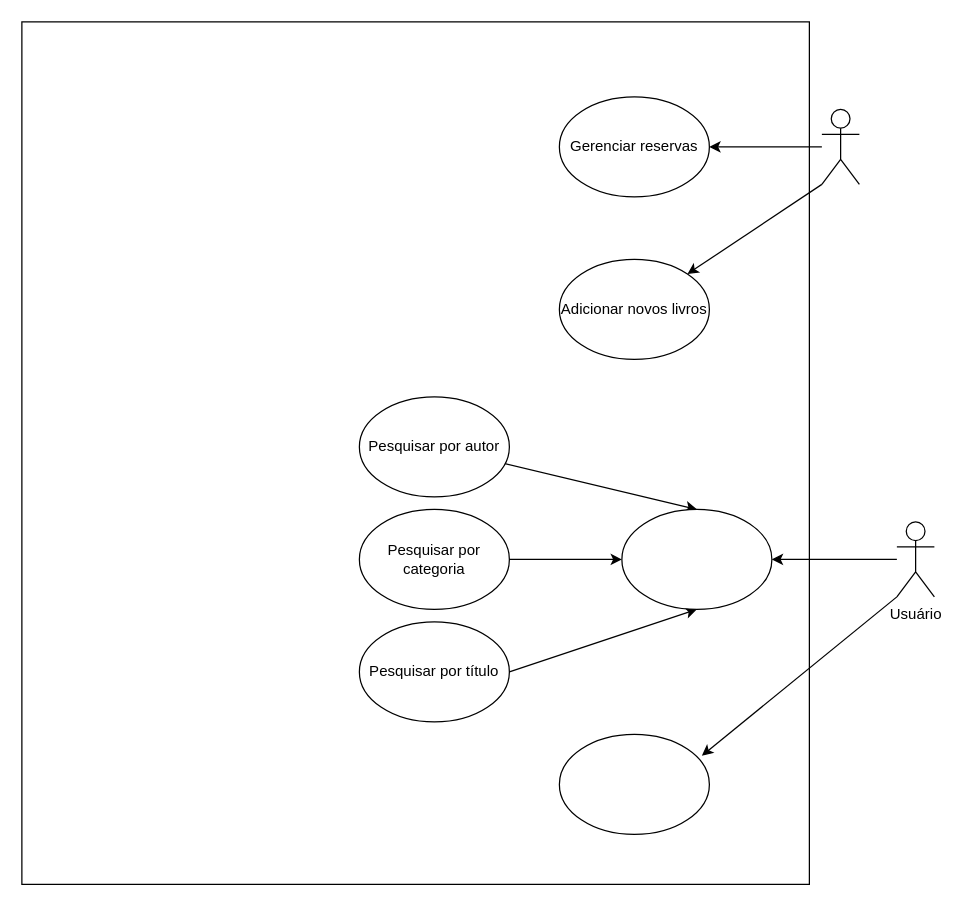
The diagram is 963 pixels wide and 906 high, and some of its shapes have lost their labels. Each missing label, with the box of its shape:
Adm: (821, 108, 859, 184)
Pesquisar livros: (621, 508, 772, 609)
Reservar livros disponíveis: (558, 733, 709, 834)
